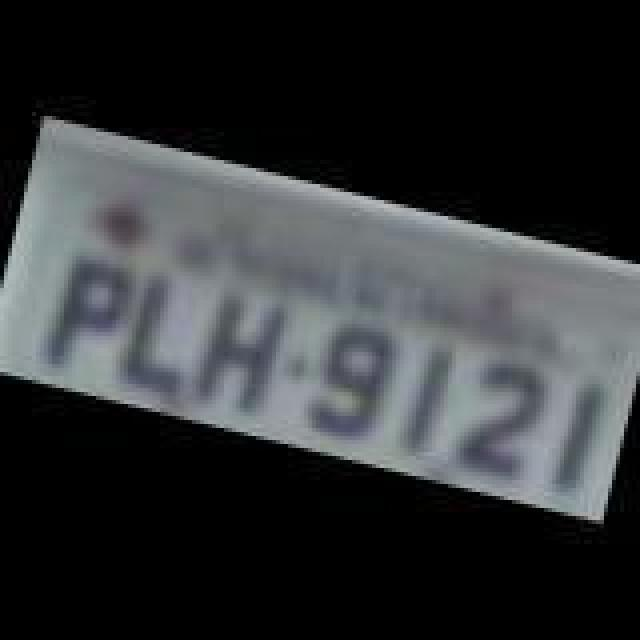1: (538, 368, 614, 496), (390, 336, 458, 456)
2: (450, 348, 558, 484)
9: (304, 312, 400, 440)
H: (186, 282, 294, 422)
L: (112, 264, 208, 400)
P: (34, 246, 134, 378)
